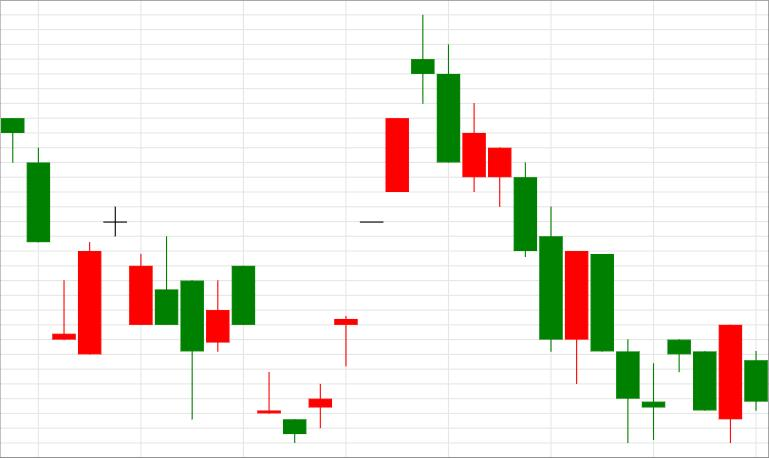evening_star_fall: (283, 14, 460, 443)
